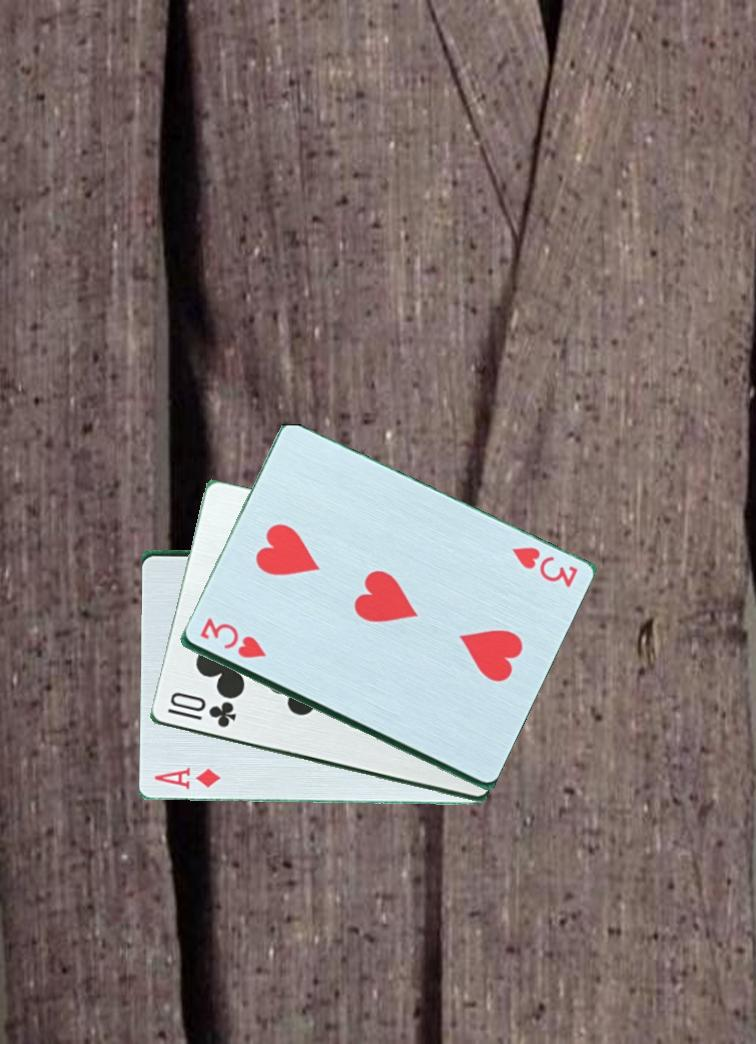3h: (497, 543, 582, 593), (195, 616, 269, 662)
ad: (150, 764, 223, 793)
tc: (161, 687, 246, 731)
